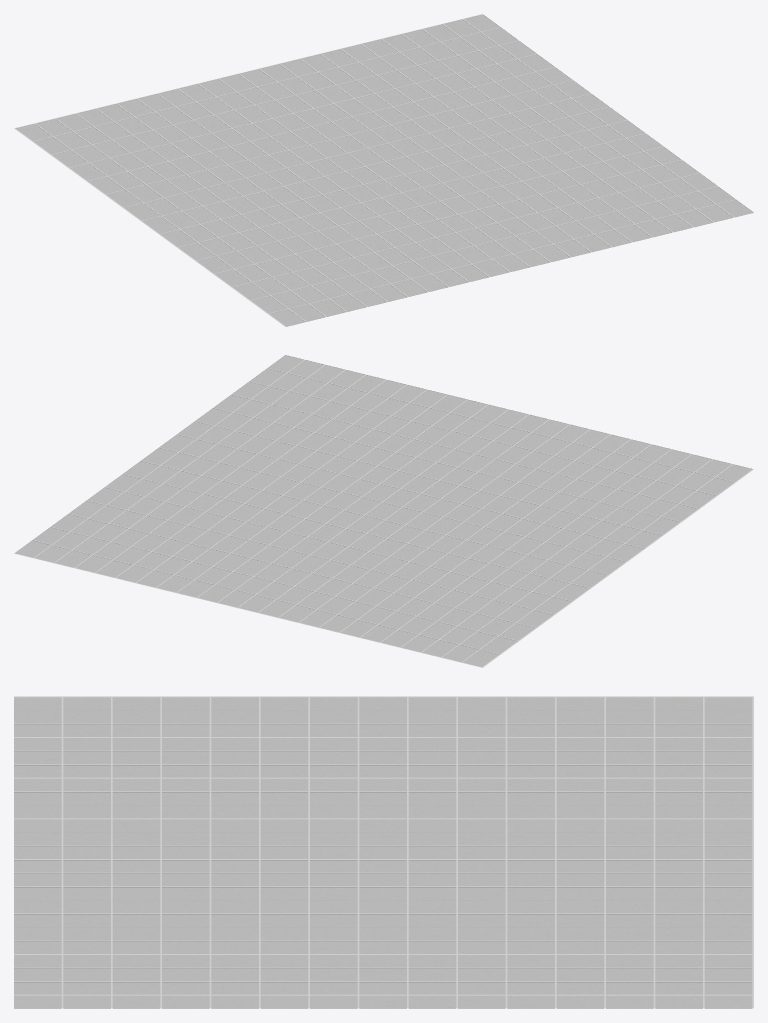
The model's file is office.ceiling.fbx.
3 views of the same model, one above another, from view 1: azimuth 30°, elevation 25°; view 2: azimuth 150°, elevation 25°; view 3: azimuth 270°, elevation 25° (orthographic). The views are drawn at different scales.
Parts seen in each view (by area): view 1: Ceiling.Office; view 2: Ceiling.Office; view 3: Ceiling.Office.
Part boxes in pixels (box(x1,y1,x2,y2)): Ceiling.Office: box(14, 14, 753, 326); Ceiling.Office: box(14, 355, 753, 667); Ceiling.Office: box(14, 696, 753, 1008).
Size of the model in its own units: 1983 by 0.7175 by 1989.
2 materials, 1 textured.
